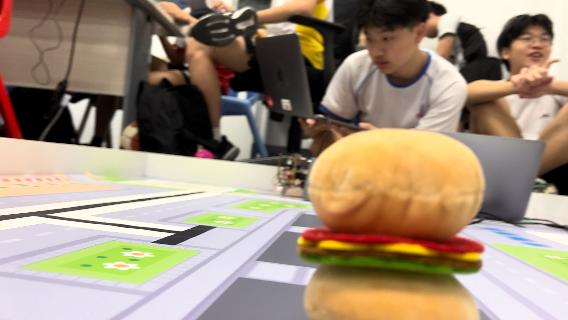burger: (296, 128, 492, 316)
